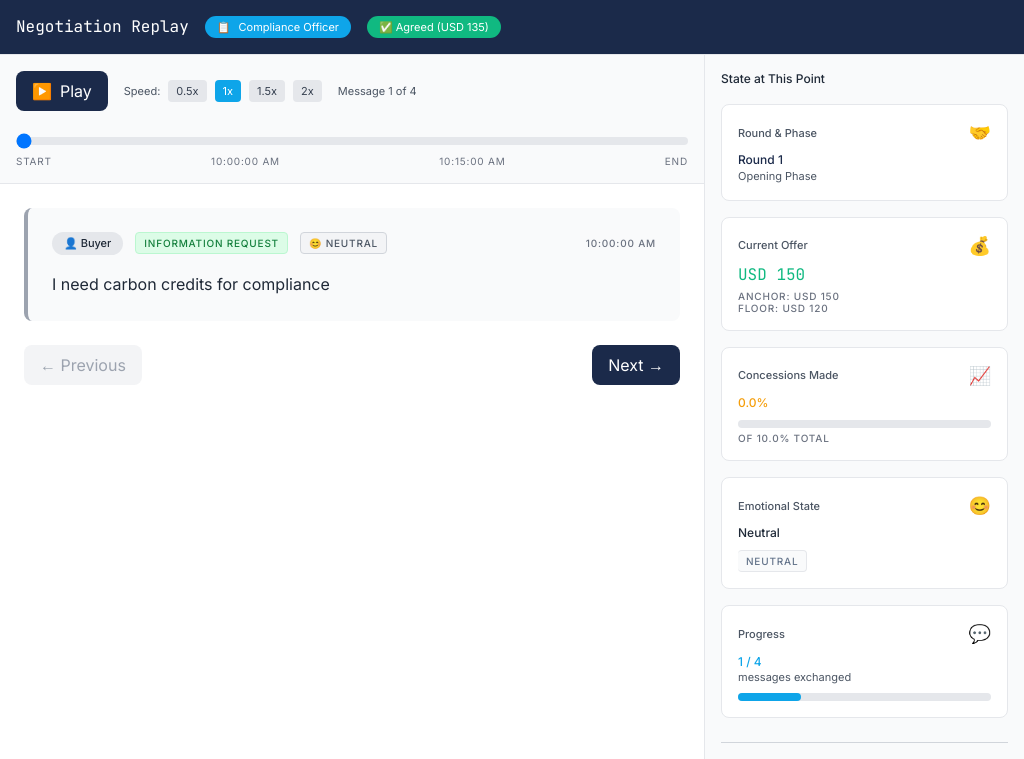
Test case: ReplayViewer › Message Timeline Display › displays argument classification and emotional state correctly
Note: Navigate to third message (price challenge)
Click the button "Next →" at (636, 365), box top-left (592, 345), bottom-right (680, 385)
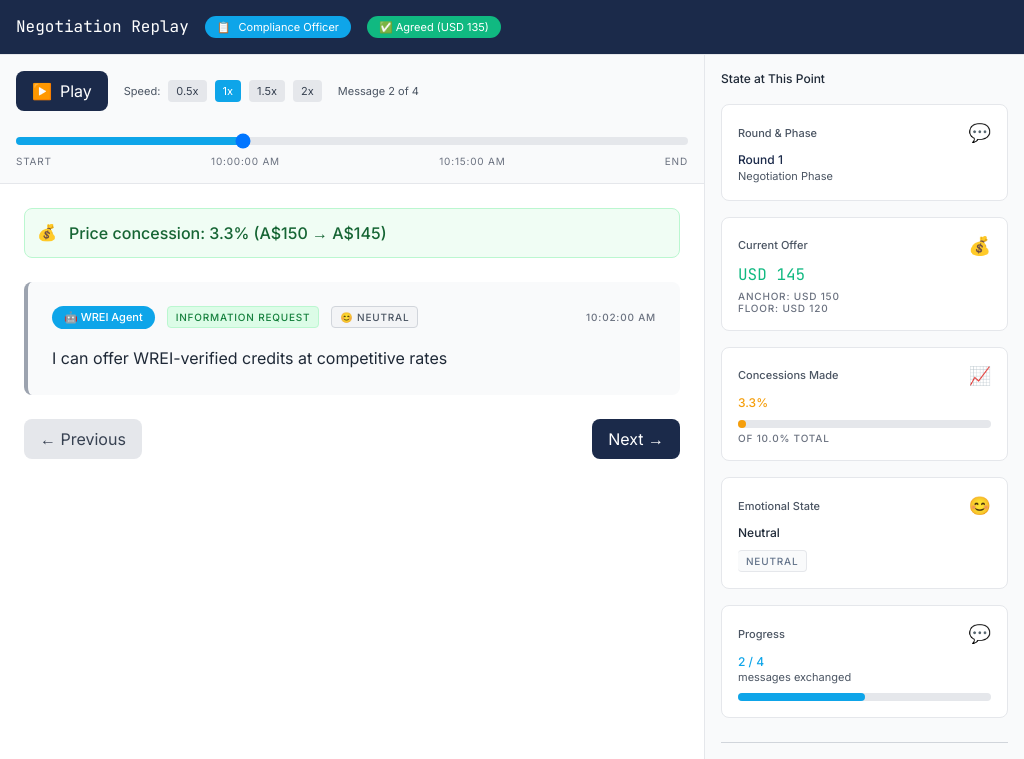
Click the button "Next →" at (636, 439), box top-left (592, 419), bottom-right (680, 459)
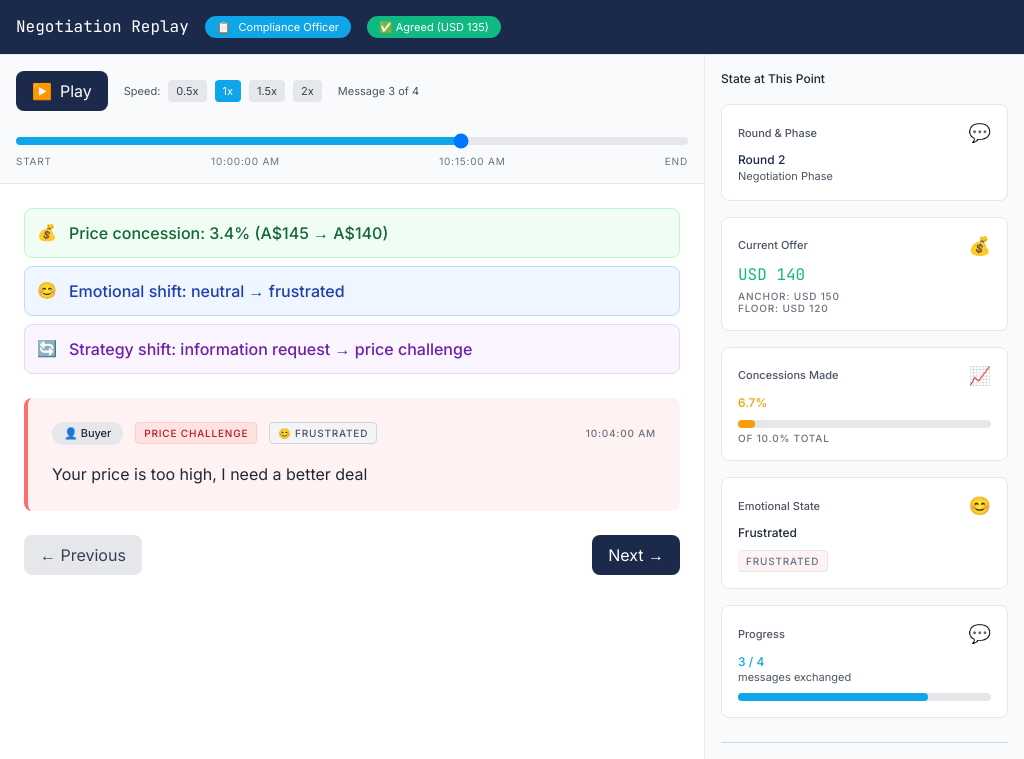
Expected: the text "Your price is too high, I need a better deal" is shown, top-left (52, 464), bottom-right (368, 484)
Expected: the text "PRICE CHALLENGE" is shown, top-left (135, 422), bottom-right (257, 444)
Expected: the text "FRUSTRATED" is shown, top-left (738, 550), bottom-right (828, 572)
